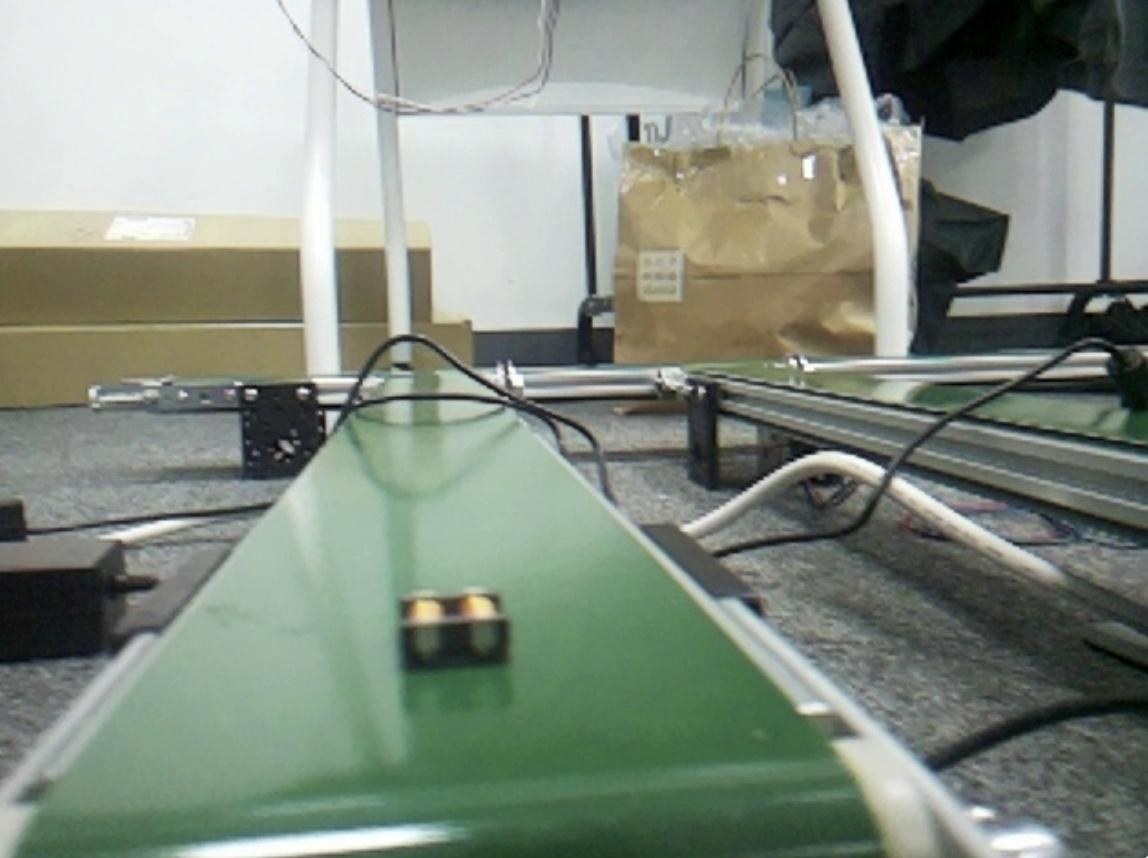inductor: (400, 590, 509, 657)
